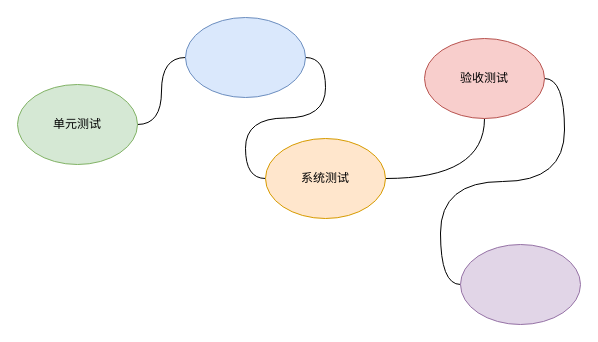
The diagram is 598 pixels wide and 342 high, and some of its shapes have lost their labels. Here are the shapes that lost their labels. From the top down, the centre of each, then its label:
the point at 245,57: 集成测试
the point at 520,284: 产品
